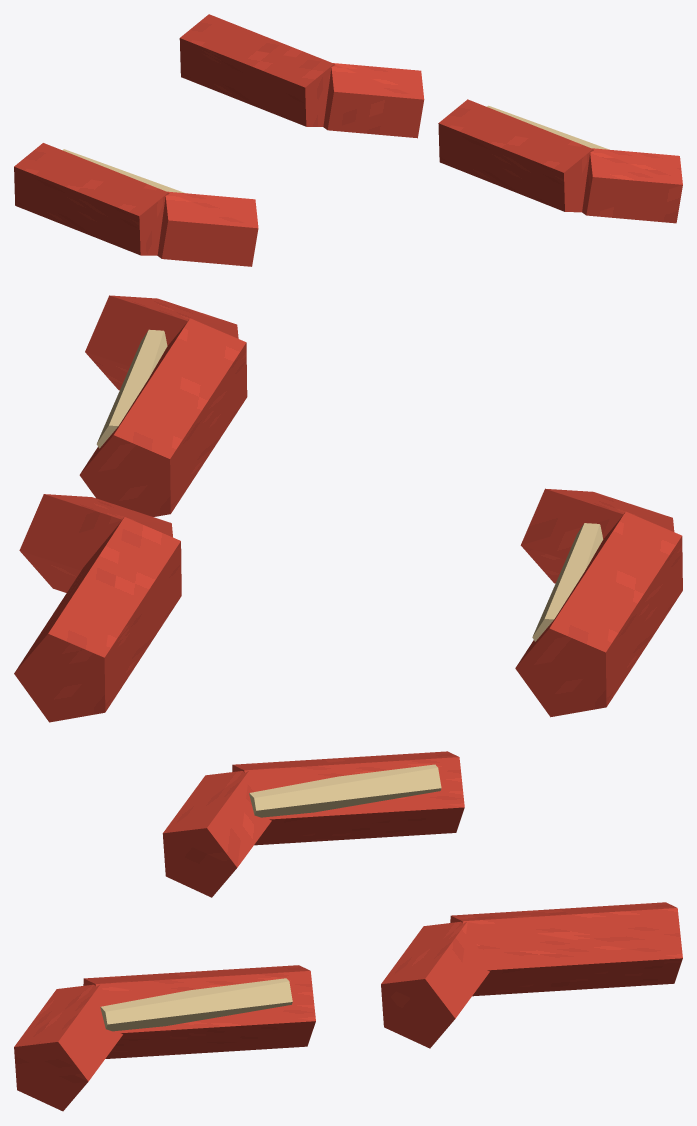
Rendered from chili_pepper_cut.glb.
3 views of the same model, one above another, from view 1: azimuth 30°, elevation 25°; view 2: azimuth 150°, elevation 25°; view 3: azimuth 270°, elevation 25° (orthographic). The views are drawn at different scales.
Parts seen in each view (by area): view 1: block_hollow sliced pepper 0 (×3), block_hollow sliced pepper 1 (×3), block_pale inner rib (×2); view 2: block_hollow sliced pepper 0 (×3), block_hollow sliced pepper 1 (×3), block_pale inner rib (×2); view 3: block_hollow sliced pepper 0 (×3), block_hollow sliced pepper 1 (×3), block_pale inner rib (×2).
Part boxes in pixels (x1=…): block_hollow sliced pepper 0 (×3): x1=14, y1=14, x2=593, y2=255; block_hollow sliced pepper 1 (×3): x1=157, y1=63, x2=682, y2=266; block_pale inner rib (×2): x1=62, y1=105, x2=608, y2=193; block_hollow sliced pepper 0 (×3): x1=14, y1=318, x2=682, y2=722; block_hollow sliced pepper 1 (×3): x1=19, y1=295, x2=674, y2=592; block_pale inner rib (×2): x1=96, y1=329, x2=603, y2=641; block_hollow sliced pepper 0 (×3): x1=83, y1=751, x2=682, y2=1058; block_hollow sliced pepper 1 (×3): x1=14, y1=771, x2=489, y2=1111; block_pale inner rib (×2): x1=100, y1=764, x2=441, y2=1031.
Size of the model in its own units: 0.0746 by 0.0105 by 0.0704.
Materials: 1 (1 with a texture image).
